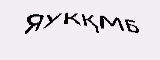Б: (124, 16, 139, 39)
К: (63, 8, 83, 26)
М: (98, 12, 124, 33)
У: (44, 11, 61, 31)
Я: (22, 10, 43, 34)
Қ: (81, 11, 99, 35)
